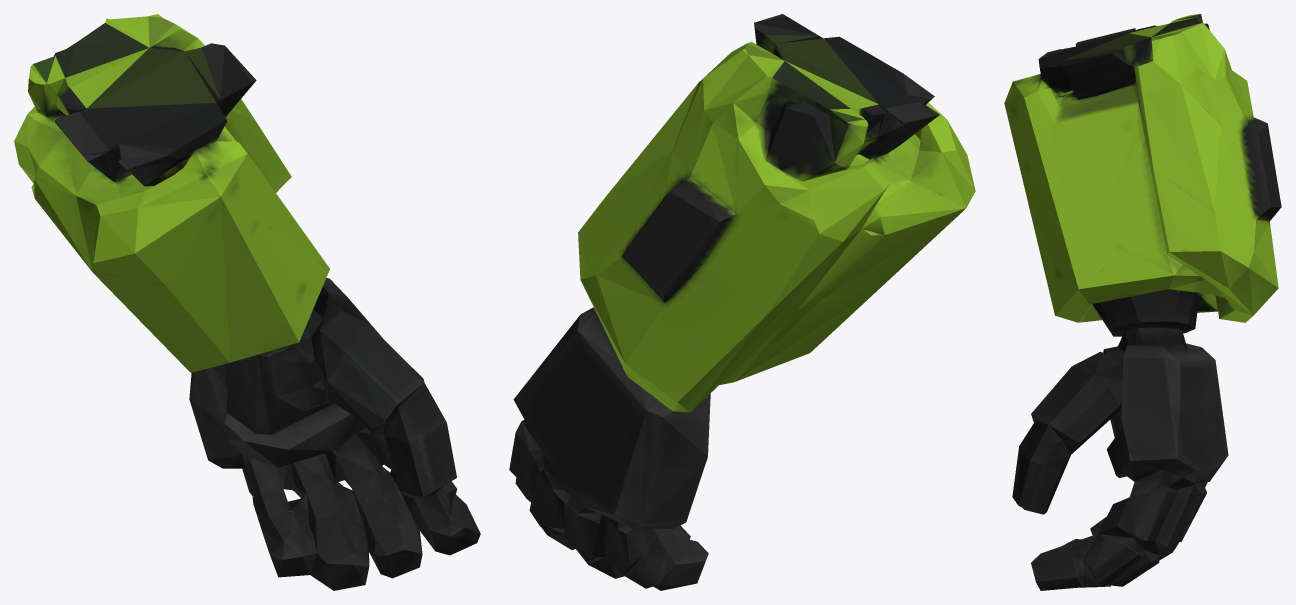
The model's file is SM_ShooterDebris_Forearm_L.fbx.
The picture shows the model from 3 angles, left to right: view 1: azimuth 30°, elevation 25°; view 2: azimuth 150°, elevation 25°; view 3: azimuth 270°, elevation 25°; orthographic projection. The views are drawn at different scales.
Parts seen in each view (by area): view 1: SM_ShooterDebris_Forearm_L; view 2: SM_ShooterDebris_Forearm_L; view 3: SM_ShooterDebris_Forearm_L.
Part boxes in pixels (x1,y1,x2,y2): SM_ShooterDebris_Forearm_L: (14, 14, 480, 590); SM_ShooterDebris_Forearm_L: (509, 14, 975, 590); SM_ShooterDebris_Forearm_L: (1004, 14, 1281, 590).
Bounding box in the file's own units: 42.15 × 57.76 × 29.82.
1 material, 1 textured.
